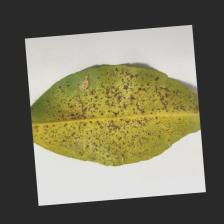canker: (72, 72, 179, 148)
